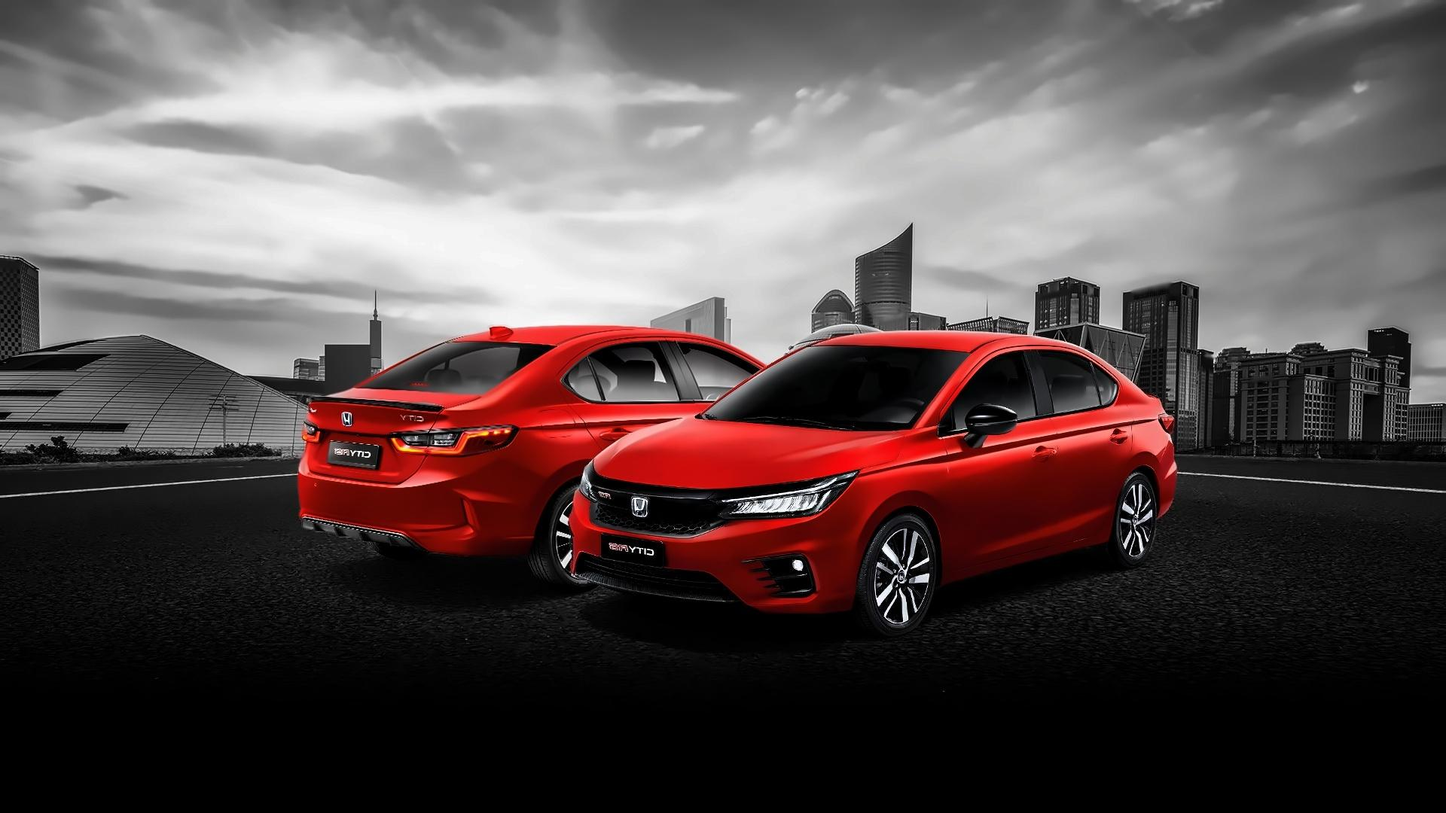Car boot: (294, 380, 477, 491)
Car hood: (593, 417, 915, 498)
Fender - -F-L-: (836, 419, 965, 571)
Fender - -R-L-: (1105, 370, 1178, 500)
Fender - -R-R-: (468, 350, 608, 491)
Front bumper: (562, 478, 876, 612)
Headlight - -L-: (714, 464, 860, 528)
Headlight - -R-: (574, 461, 603, 503)
Passenger-s door - -F-L-: (921, 325, 1063, 592)
Passenger-s door - -R-L-: (1029, 338, 1138, 560)
Rear bumper: (291, 457, 544, 561), (1151, 451, 1185, 524)
Rear light - -L-: (296, 423, 329, 446), (1150, 413, 1177, 437)
Rear light - -R-: (388, 424, 523, 456)
Side bumper - -L-: (937, 498, 1129, 620)
Side mirror - -L-: (959, 403, 1024, 445)
